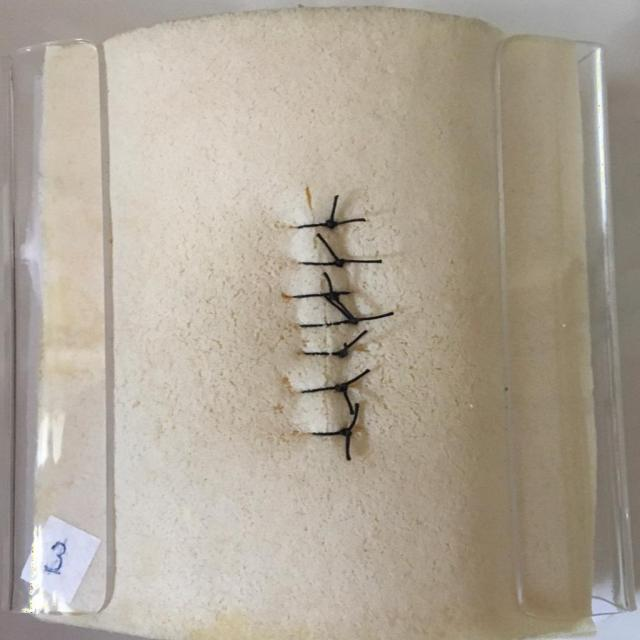knot: (326, 220, 338, 229), (335, 259, 346, 268), (336, 384, 348, 392), (341, 428, 351, 437), (327, 293, 338, 300), (348, 318, 359, 325), (338, 350, 348, 357)
leftover: (320, 292, 355, 323), (313, 231, 343, 265), (337, 327, 370, 356), (337, 366, 372, 390), (328, 291, 355, 318), (341, 399, 360, 436), (338, 384, 355, 417), (350, 310, 396, 322), (326, 192, 340, 225), (335, 258, 385, 266), (320, 269, 334, 297), (326, 217, 368, 225), (343, 430, 352, 463), (340, 340, 348, 356)
stitch: (295, 316, 360, 328), (299, 383, 351, 395), (294, 219, 339, 230), (289, 291, 341, 299), (297, 259, 348, 267), (308, 430, 354, 437), (301, 350, 351, 356)
wound: (300, 182, 332, 447)
